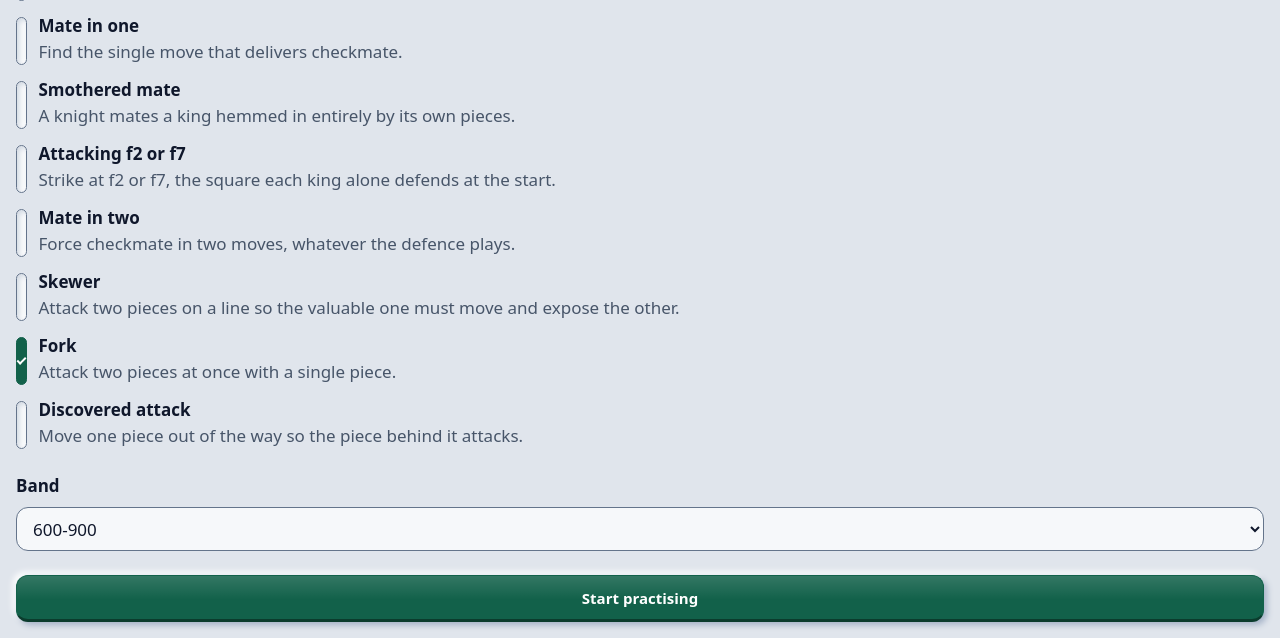
Test case: practice can be opened with a theme already chosen
The image size is (1280, 638).
(page scrolled)
Expected: the checkbox labelled "Fork Attack two pieces at once with a single piece." is checked, [16,337,26,385]
Expected: the checkbox labelled "Skewer" is not checked, [16,273,26,321]
What coordinates should you click on to do the following:
click the button "Start practising"
I would click on:
 (640, 598)
Its box is [16,575,1264,622].
(page scrolled)
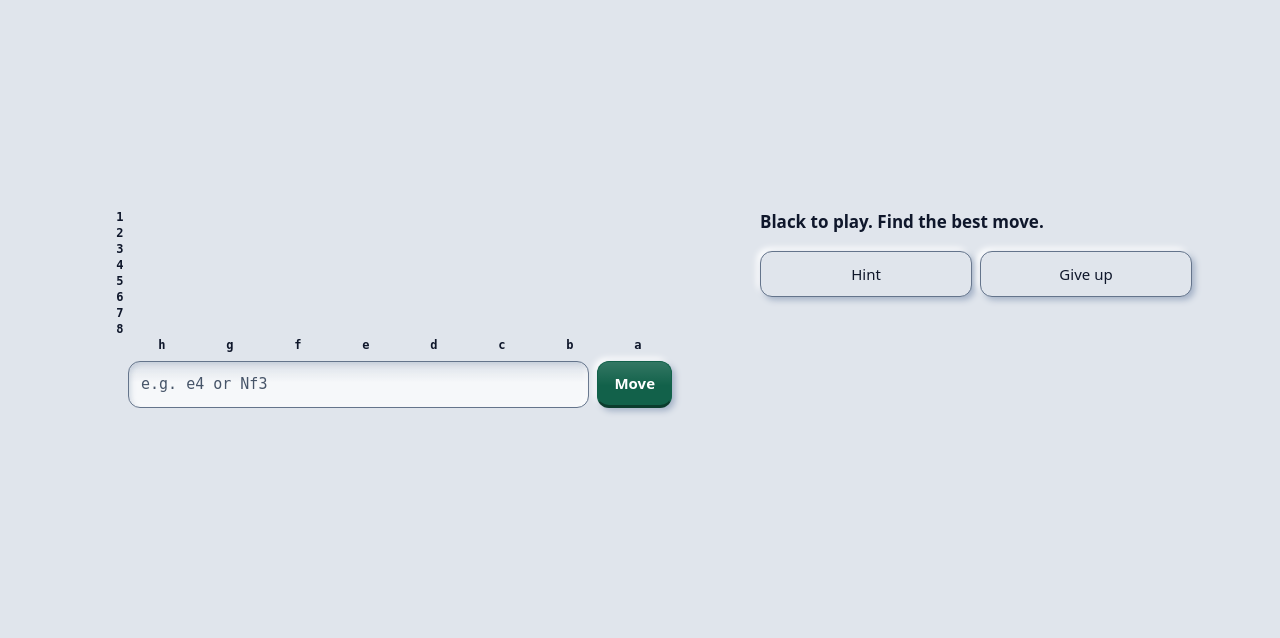
Expected: the field named "Type a move" is shown, [128,360,590,408]
